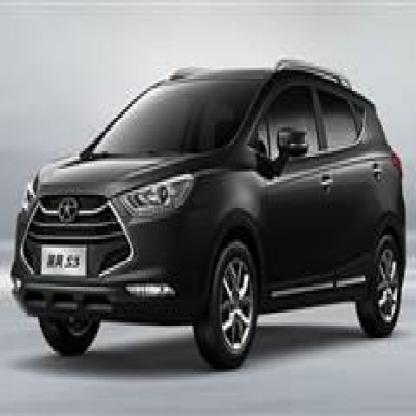Car: (9, 52, 407, 377)
